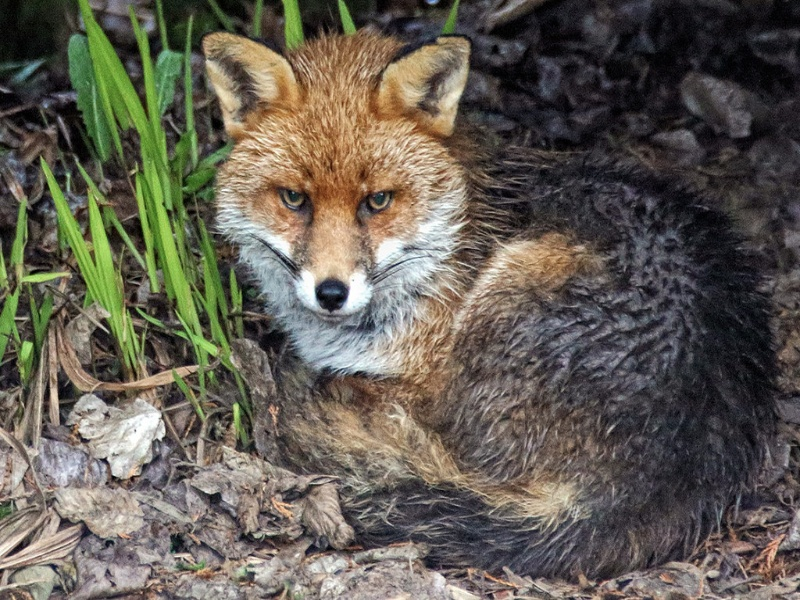fox: (193, 16, 780, 569)
